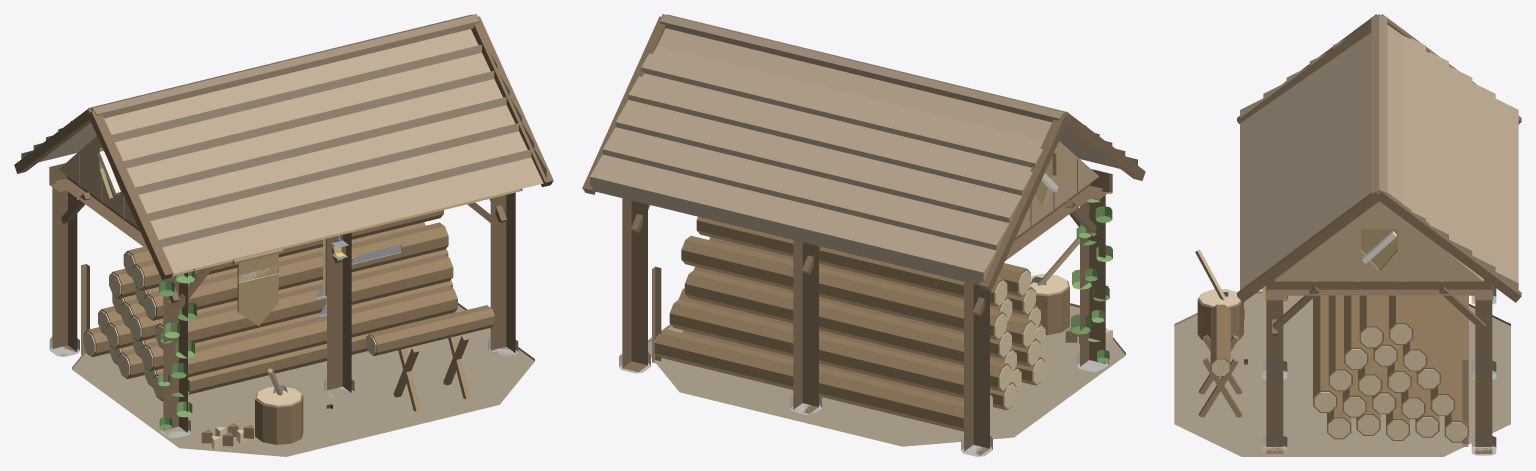
Rendered from lumber_camp_4.glb.
3 renders of one model, left to right at view 1: azimuth 30°, elevation 25°; view 2: azimuth 150°, elevation 25°; view 3: azimuth 270°, elevation 25°, orthographic. The views are drawn at different scales.
Parts seen in each view (by area): view 1: Ground, Roof, Roof#2, Roof#3, Roof#4, Roof#5, Log#10, Roof#6, Log#14, Roof.Ridge, Log#17, Post#6 (+19 smaller); view 2: Roof#7, Ground, Roof#8, Roof#9, Roof#10, Roof#11, Log, Log#6, Log#15, Roof#12, Log#11, Roof.Ridge (+17 smaller); view 3: Ground, Gable, Roof#7, Roof#8, Roof#9, Roof#11, Roof, Roof#2, Roof#10, Roof#3, Roof#4, Roof#5 (+53 smaller).
Part boxes in pixels (x1,y1,x2,y2): Ground: (72, 303, 534, 456); Roof: (157, 148, 546, 273); Roof#2: (144, 122, 534, 239); Roof#3: (134, 96, 521, 213); Roof#4: (123, 71, 509, 187); Roof#5: (111, 44, 497, 160); Log#10: (188, 285, 457, 377); Roof#6: (104, 29, 478, 134); Log#14: (155, 254, 453, 348); Roof.Ridge: (88, 14, 479, 118); Log#17: (144, 222, 448, 320); Post#6: (52, 163, 77, 355); Roof#7: (590, 154, 996, 284); Ground: (648, 303, 1125, 446); Roof#8: (602, 127, 1009, 252); Roof#9: (615, 100, 1021, 224); Roof#10: (628, 73, 1032, 195); Roof#11: (641, 46, 1043, 167); Log: (654, 329, 963, 431); Log#6: (669, 299, 963, 398); Log#15: (681, 235, 1006, 340); Roof#12: (657, 28, 1051, 140); Log#11: (685, 270, 963, 365); Roof.Ridge: (659, 14, 1068, 122); Ground: (1174, 291, 1510, 456); Gable: (1275, 201, 1483, 281); Roof#7: (1495, 99, 1518, 291); Roof#8: (1472, 82, 1495, 273); Roof#9: (1449, 66, 1472, 256); Roof#11: (1402, 35, 1425, 221); Roof: (1240, 98, 1263, 289); Roof#2: (1263, 82, 1286, 272); Roof#10: (1426, 51, 1448, 239); Roof#3: (1286, 66, 1309, 254); Roof#4: (1309, 52, 1332, 237); Roof#5: (1333, 39, 1356, 220).
Bounding box in the file's own units: 5.46 × 3.91 × 4.49.
